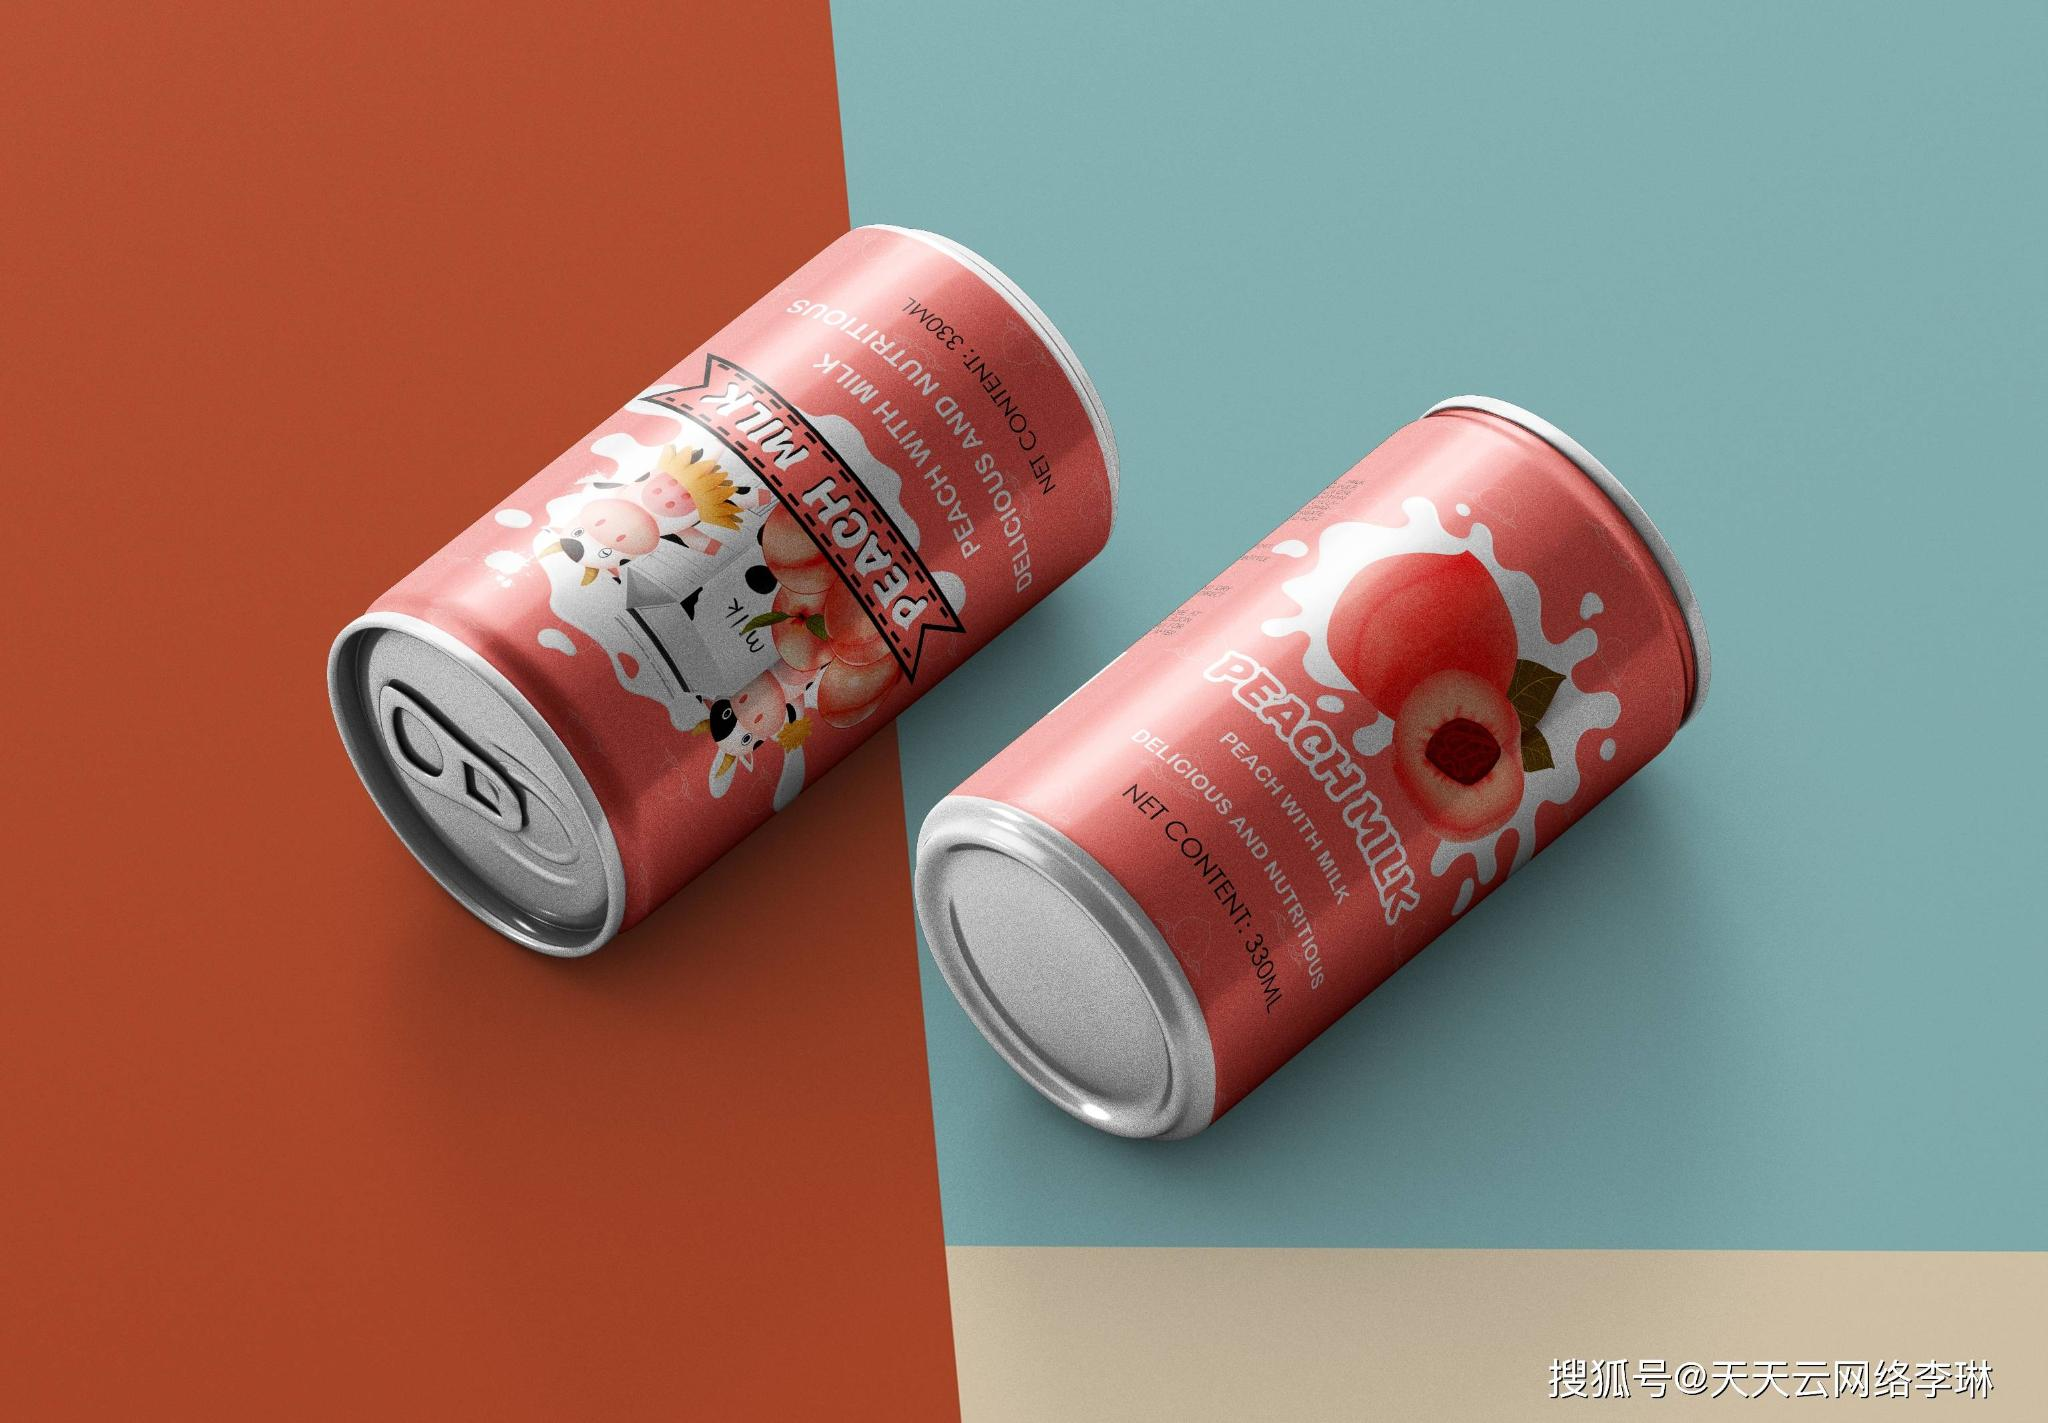metal: (917, 400, 1709, 1140), (328, 227, 1116, 956)
